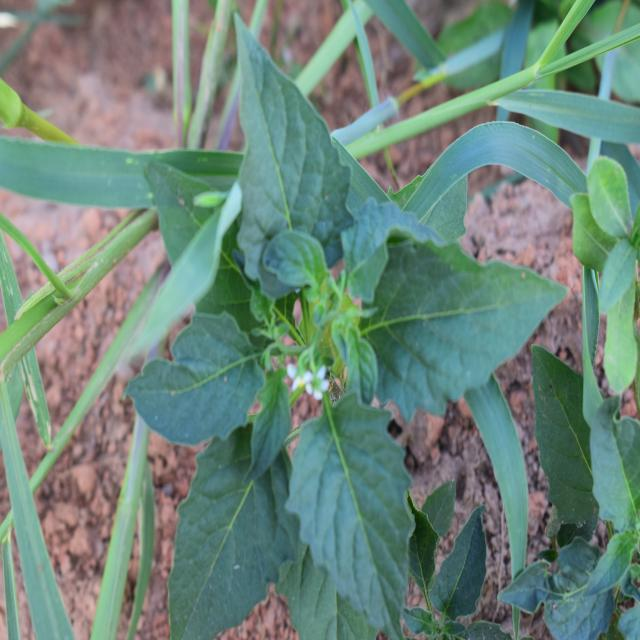Black_nightshade: (165, 75, 532, 606)
